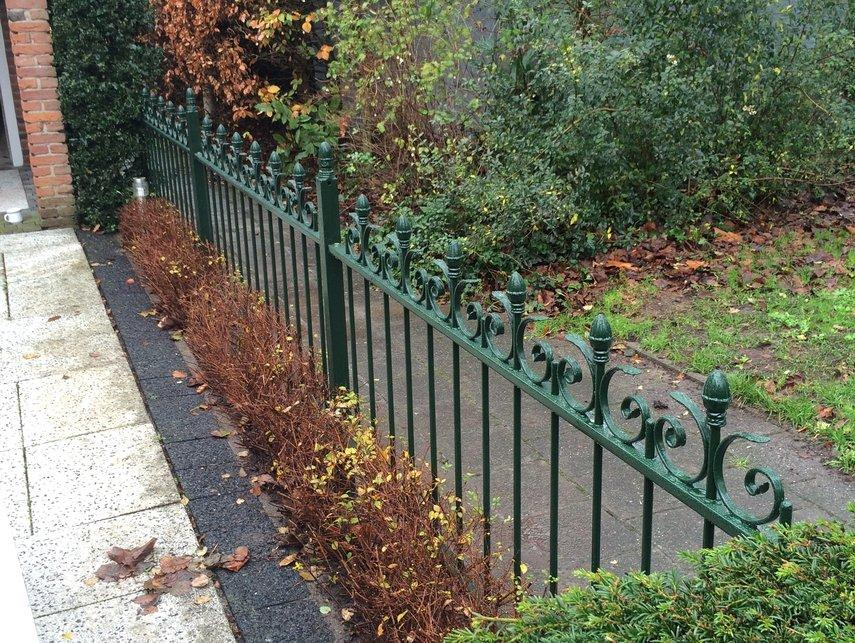obstacle: (0, 273, 367, 435), (404, 278, 783, 365)
